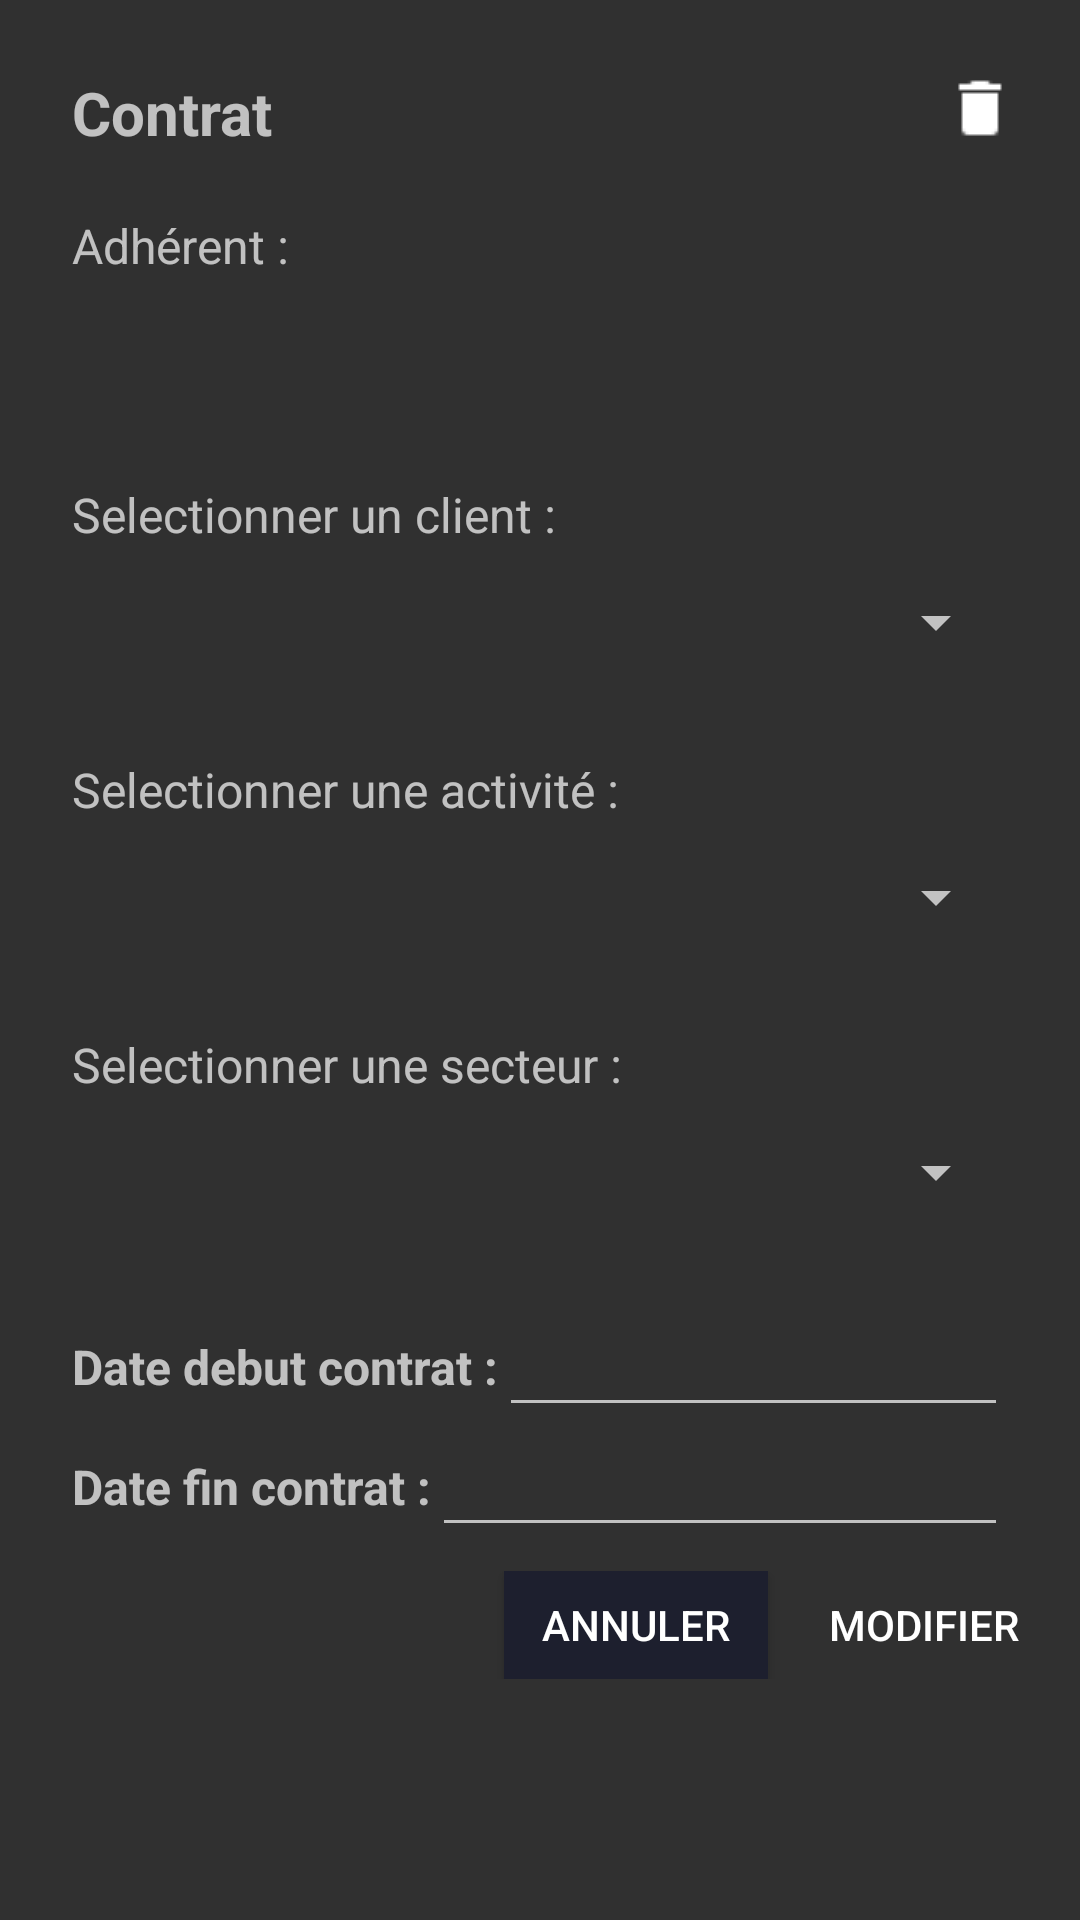

Locate icon controls on the screen. Image size 1080 × 1920, boxes as (x1, y1, x2, y2).
delete: (958, 80, 1002, 136)
